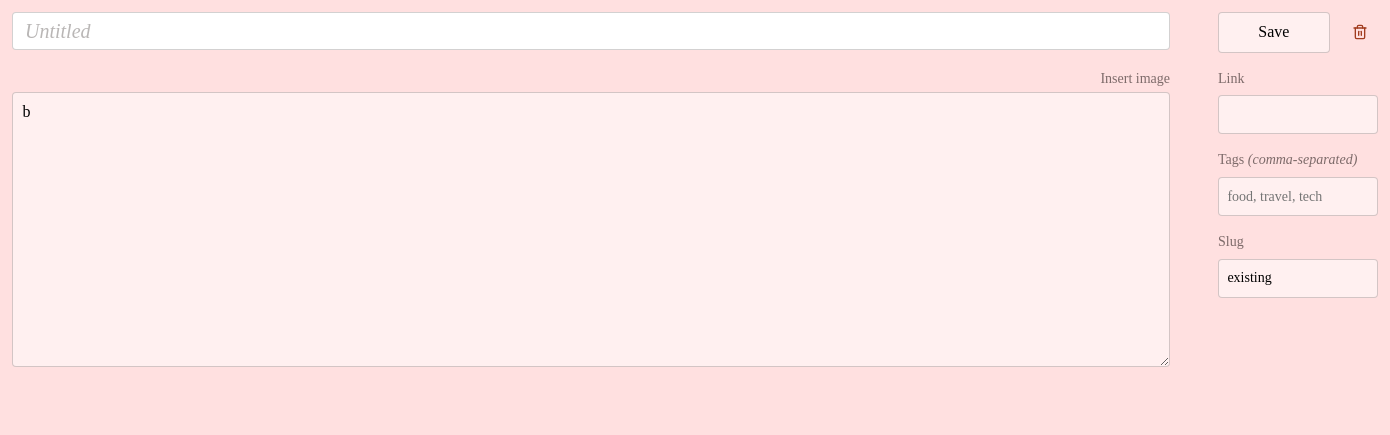
PostForm › slug input (Phase 13) › 409 response from the server surfaces as an inline error
Replace the text in the field named "slug" with "taken" at [1298, 278], box [1218,259,1378,298]
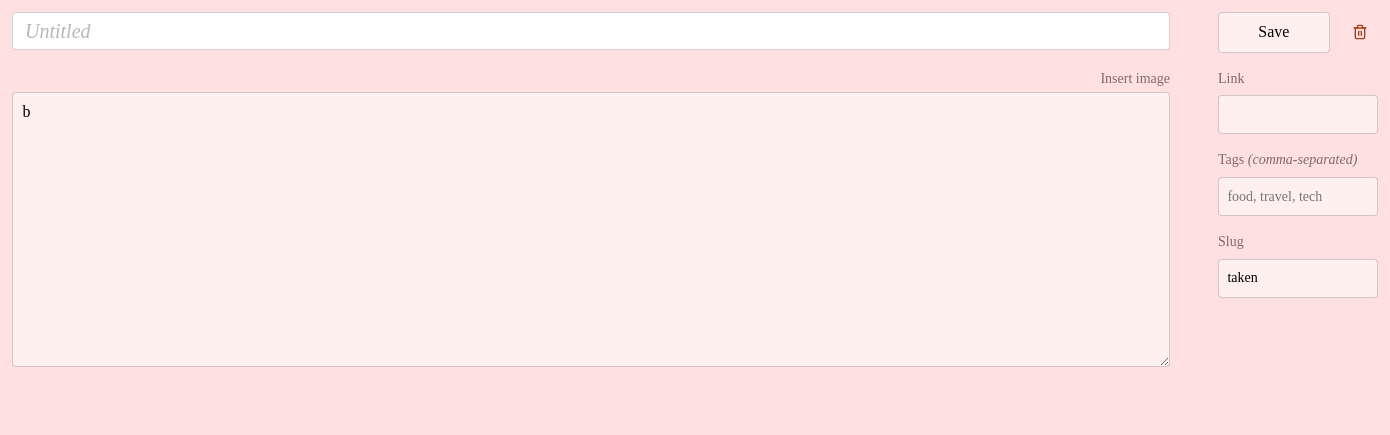
Click the button "Save".
click(1274, 32)  # box [1218,12,1330,53]
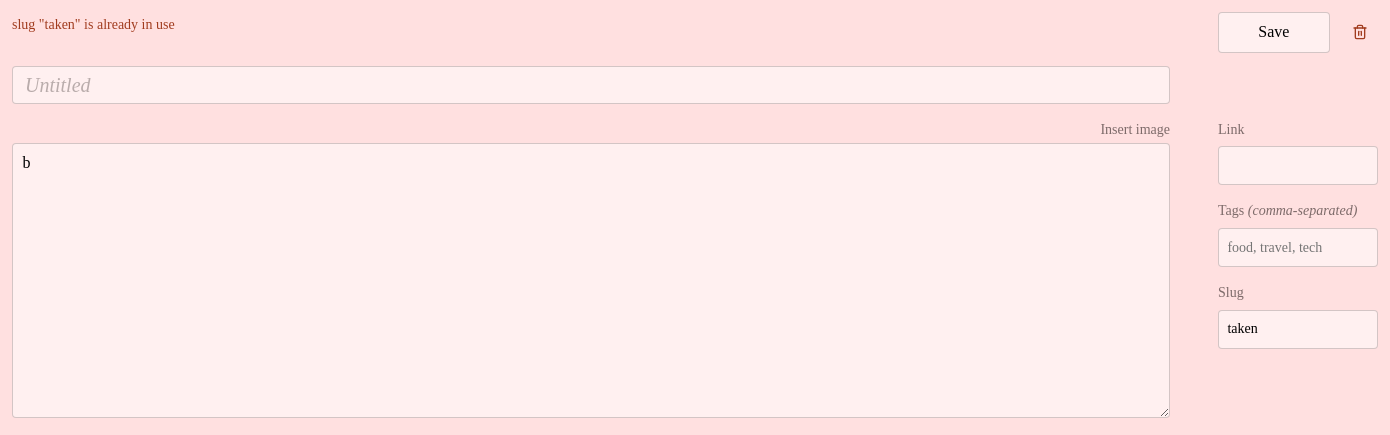
Now the message shows "already in use", box [12,17,175,32]
